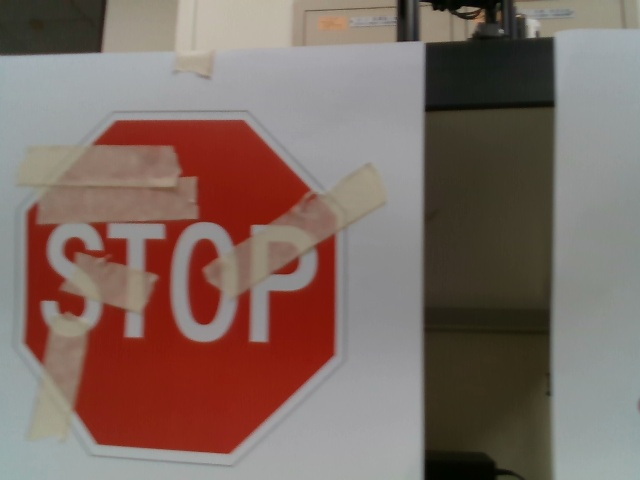stop: (13, 108, 355, 472)
